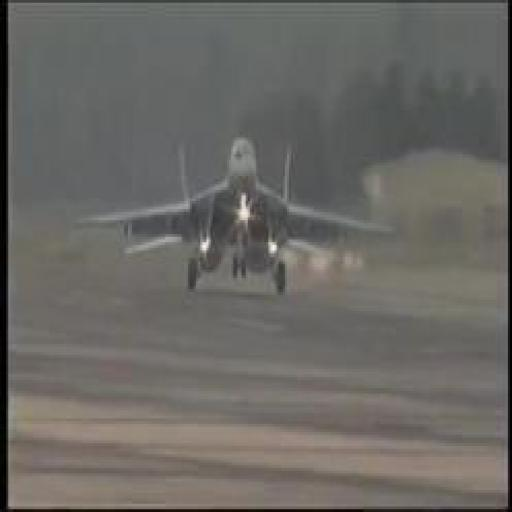aircraft: (80, 134, 397, 297)
